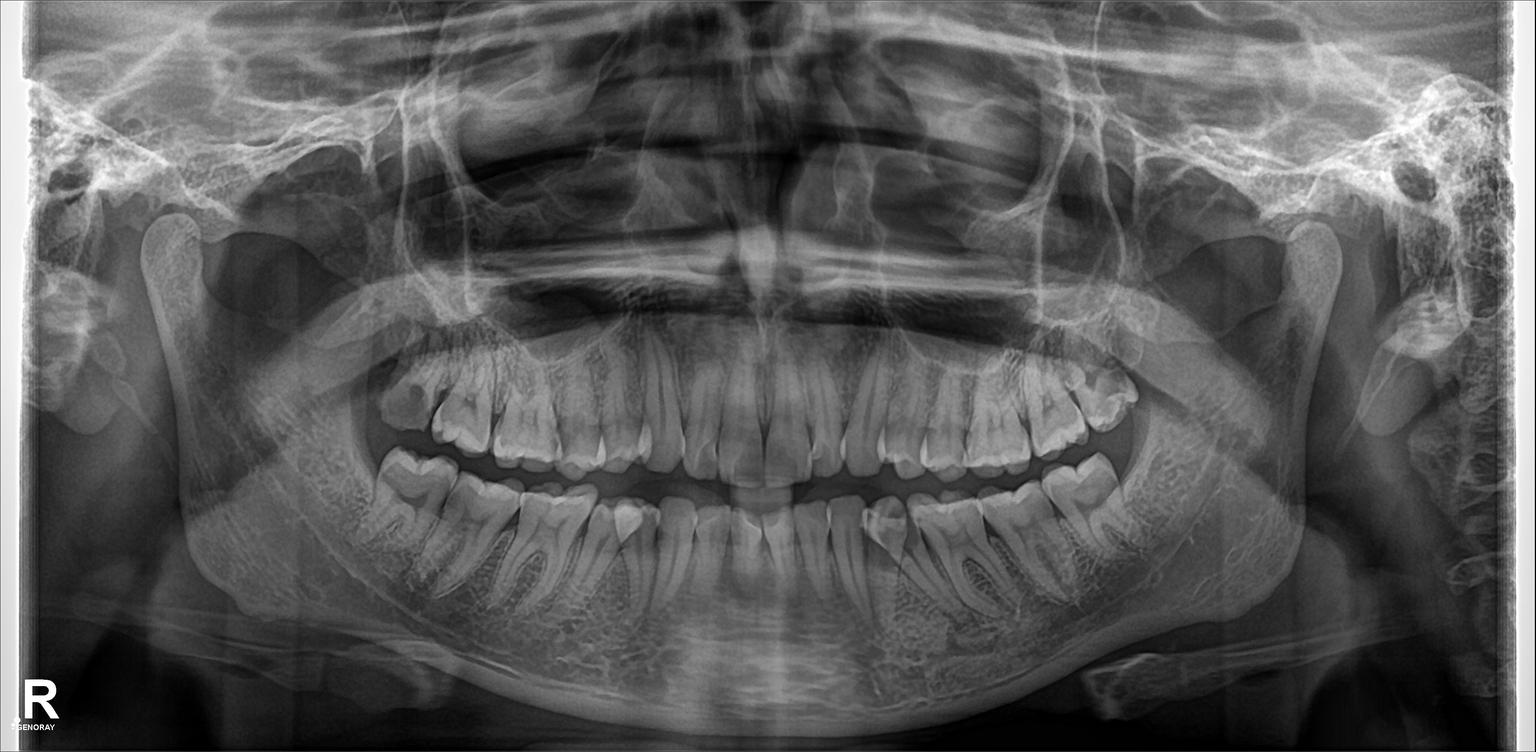Dental Caries: (376, 377, 438, 431)
